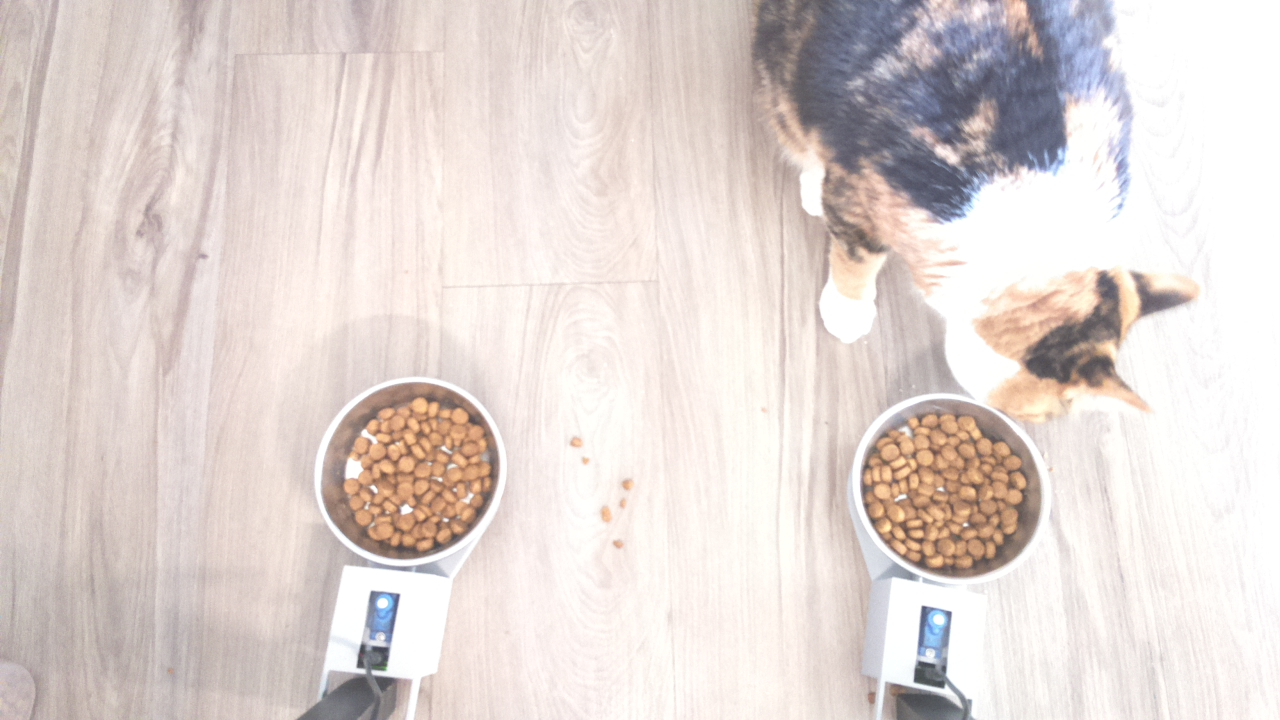bella: (916, 208, 1218, 441)
open_bowl: (850, 389, 1055, 586), (311, 376, 507, 569)
